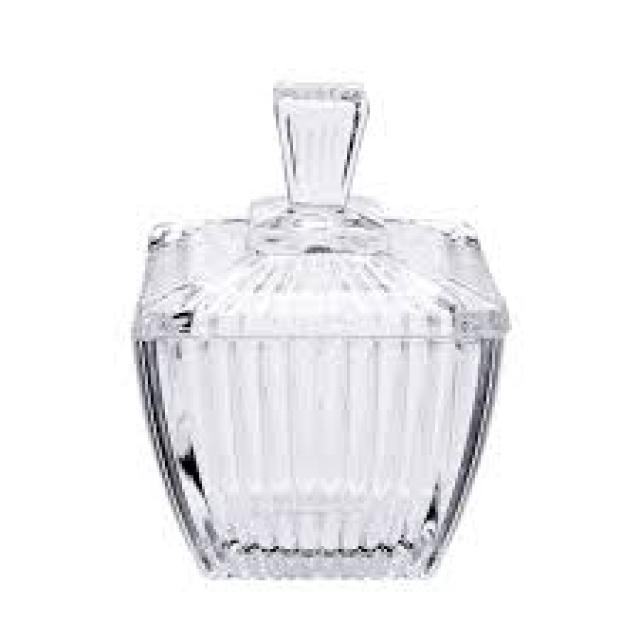bottle: (134, 86, 509, 577)
